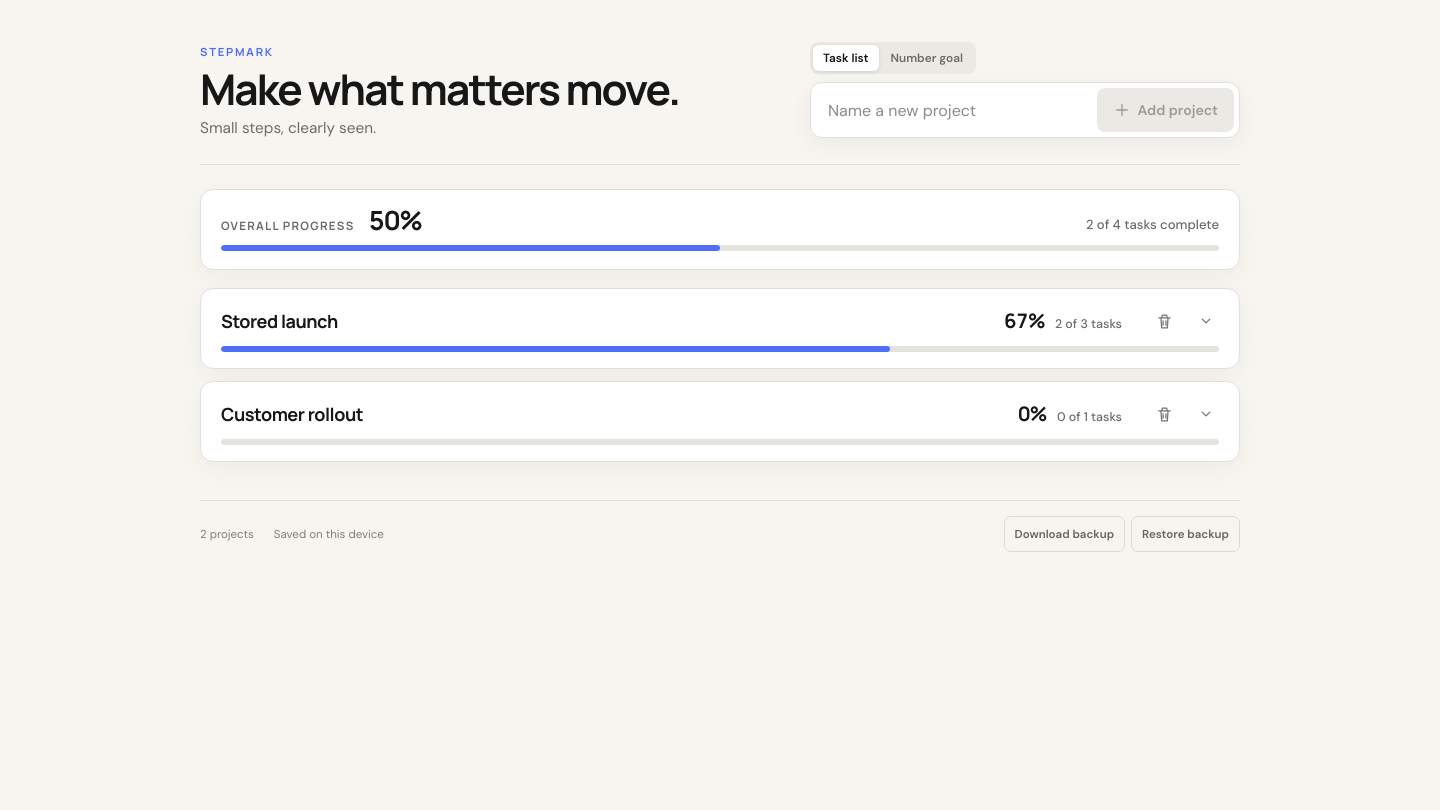
Test: project overview and disclosure › renders compact summaries collapsed and expands only one project at a time
Expected: the text "2 of 3 tasks" is shown, x1=1055 y1=316 x2=1122 y2=332
Expected: the text "0 of 1 tasks" is shown, x1=1057 y1=409 x2=1122 y2=425
Step 1. Click the button named "Expand Stored launch" → (1206, 321), box x1=1186 y1=301 x2=1226 y2=341
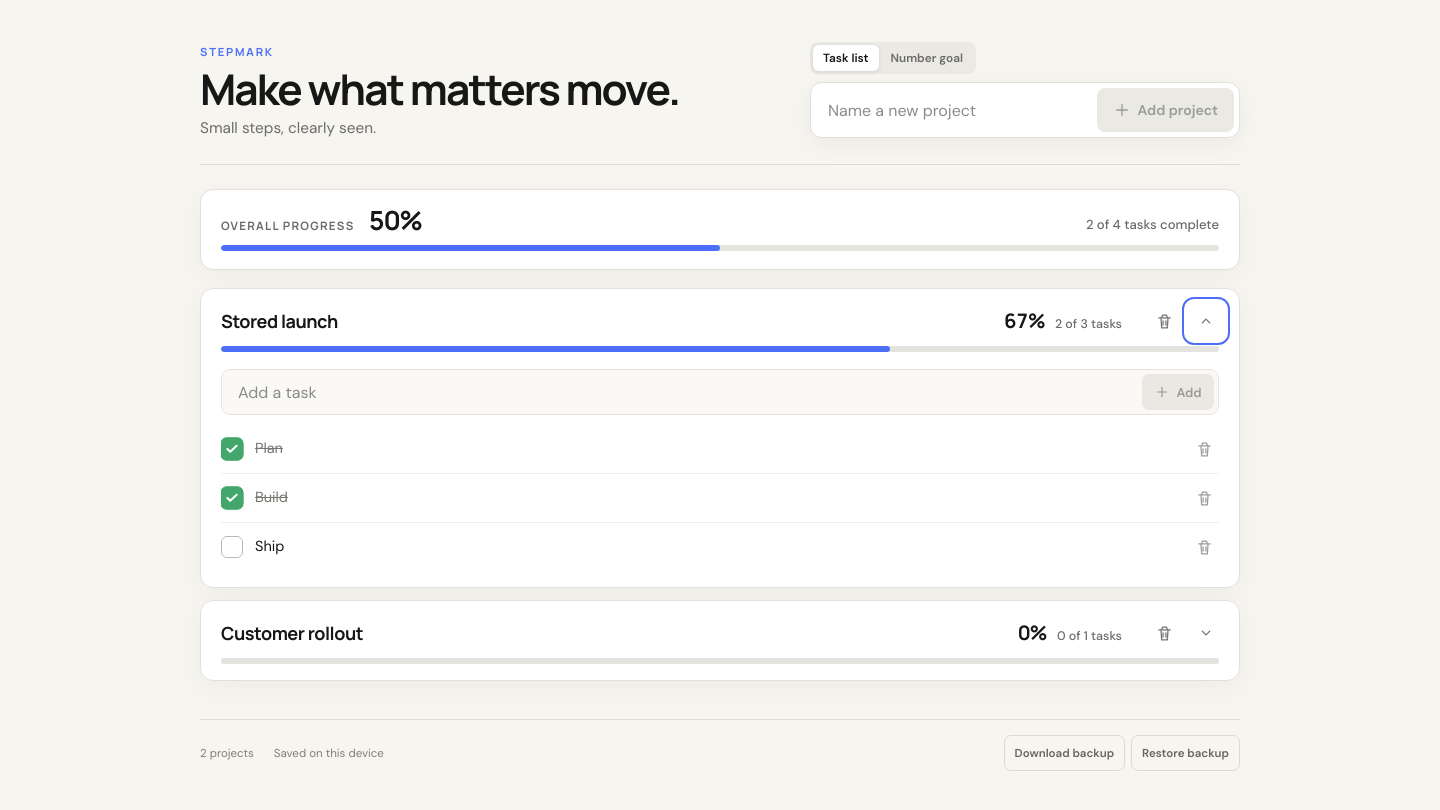
Expected: the button named "Collapse Stored launch" is shown, x1=1186 y1=301 x2=1226 y2=341
Expected: the checkbox named "Mark Plan" is shown, x1=221 y1=438 x2=283 y2=461
Step 2. Click the button named "Expand Customer rollout" → (1206, 633), box x1=1186 y1=613 x2=1226 y2=653
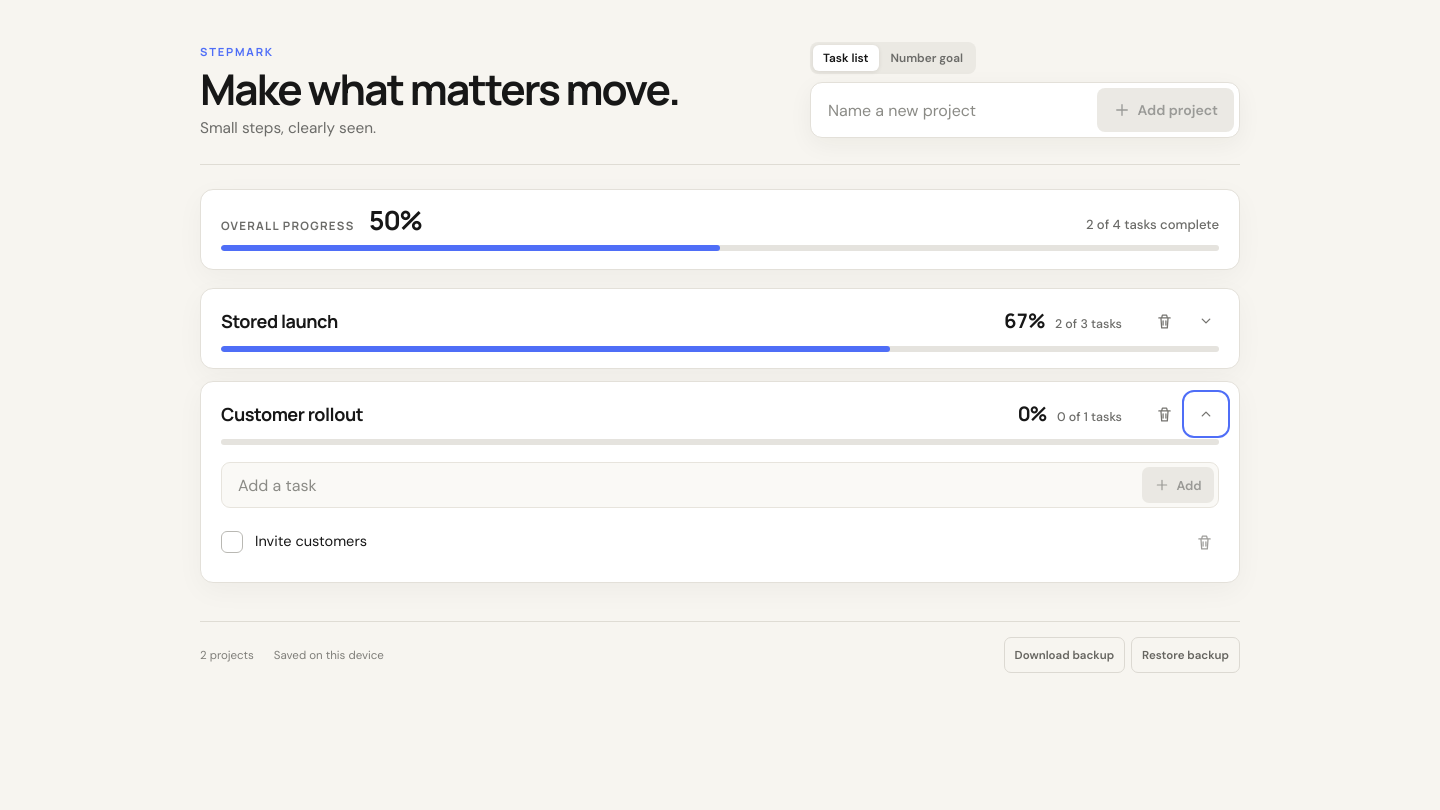
Expected: the checkbox named "Mark Invite customers" is shown, x1=221 y1=531 x2=367 y2=553
Expected: the button named "Expand Stored launch" is shown, x1=1186 y1=301 x2=1226 y2=341
Expected: the button named "Collapse Customer rollout" is shown, x1=1186 y1=394 x2=1226 y2=434
